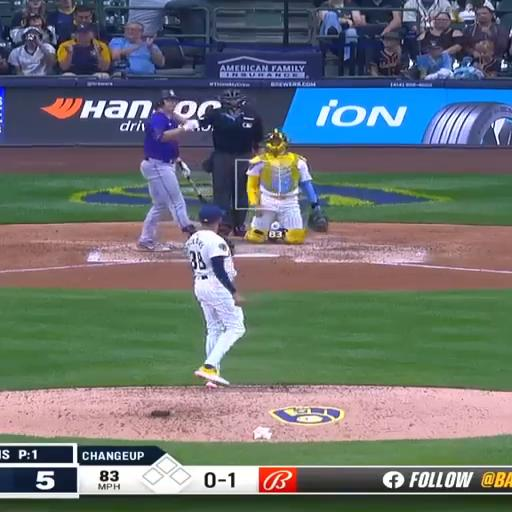bat: (178, 160, 208, 203), (186, 176, 208, 203)
